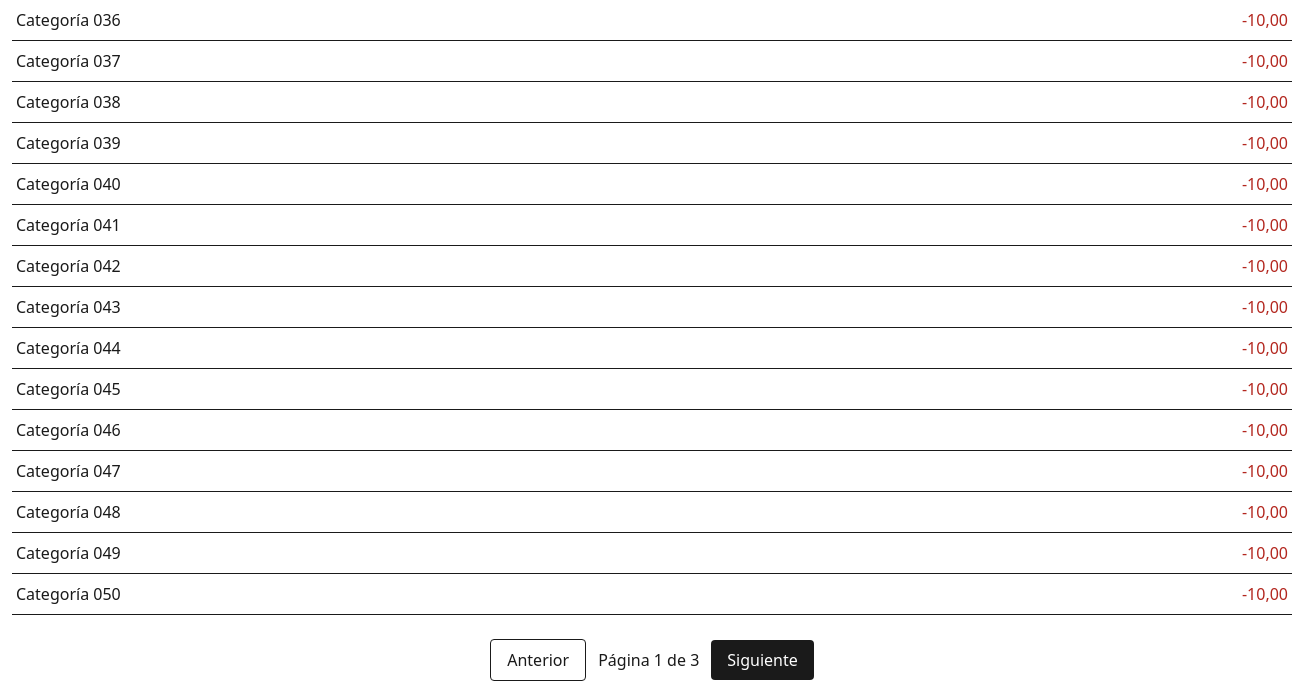
SeccionCuenta › mientras carga la página siguiente, "Siguiente" conserva el foco y un segundo clic no pide otra página (NFR-07)
(page scrolled)
Expected: the text "Página 1 de 3" is shown, left=598, top=648, right=699, bottom=672
What coordinates should you click on to do the following:
click the button "Siguiente"
I would click on:
 (763, 660)
Its box is left=711, top=640, right=814, bottom=680.
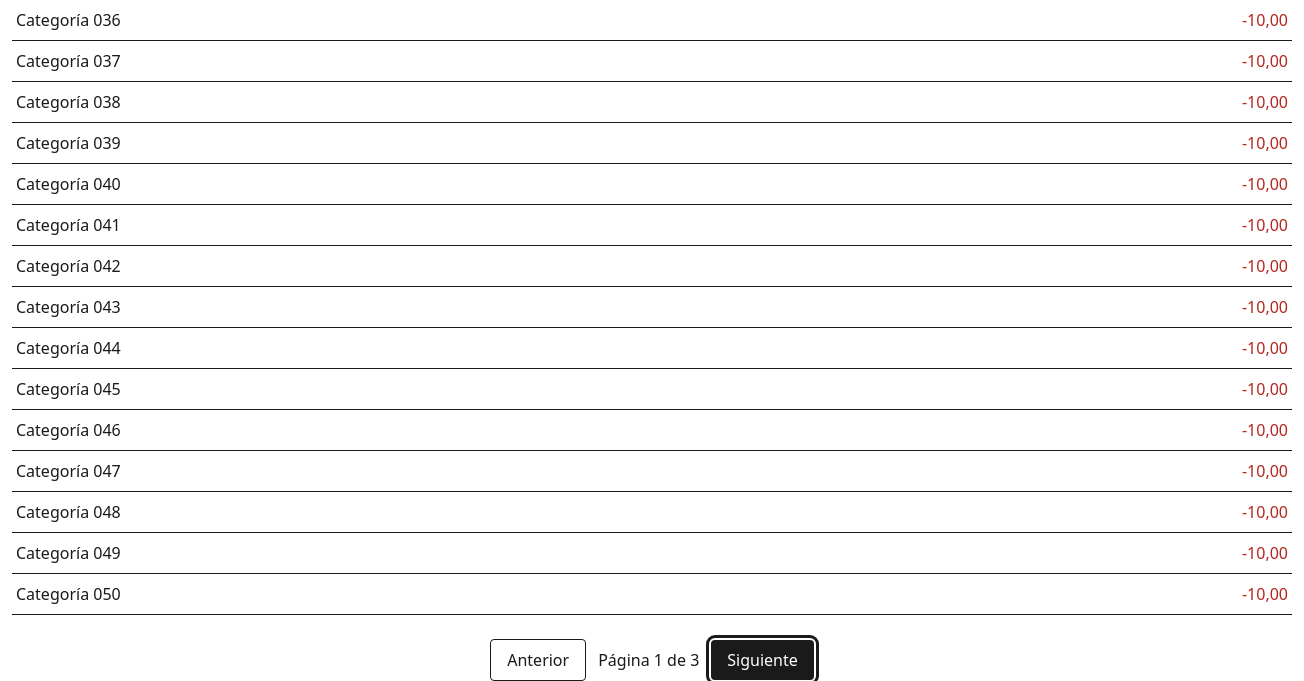
What coordinates should you click on to do the following:
click the button "Siguiente"
I would click on:
 (763, 660)
Its box is left=711, top=640, right=814, bottom=680.
(page scrolled)
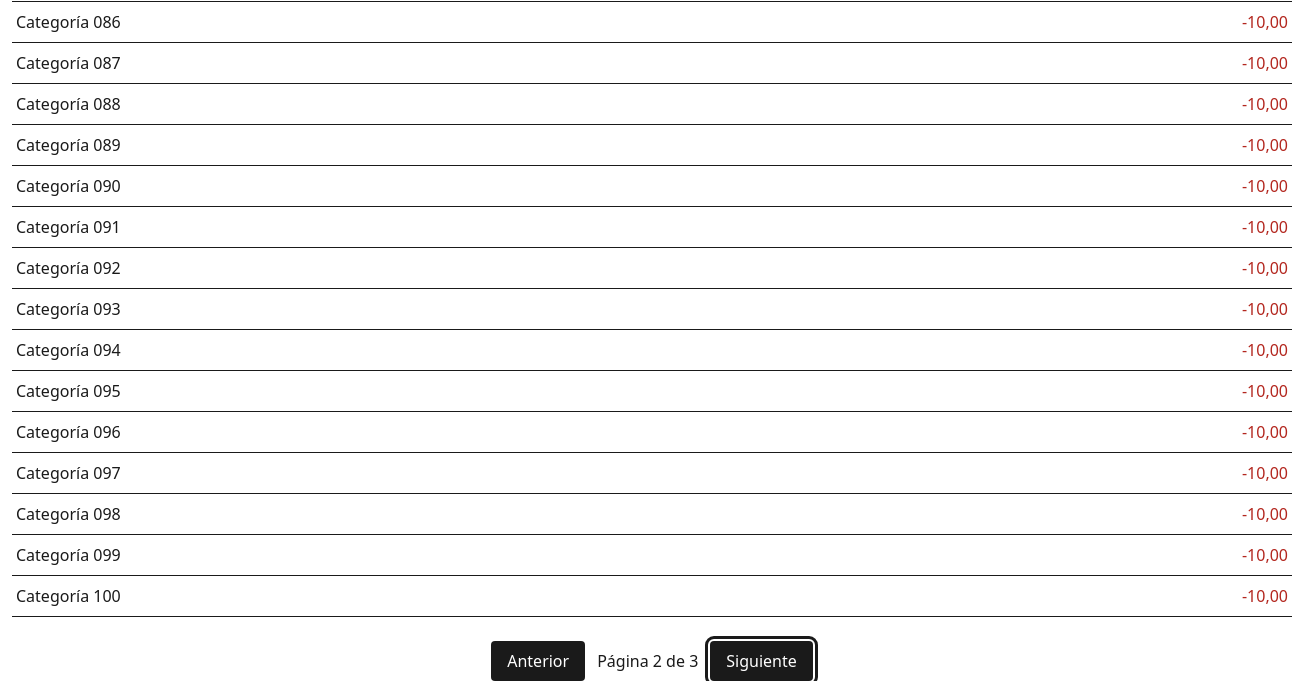
Now the text "Página 2 de 3" is shown, box left=597, top=649, right=698, bottom=673
